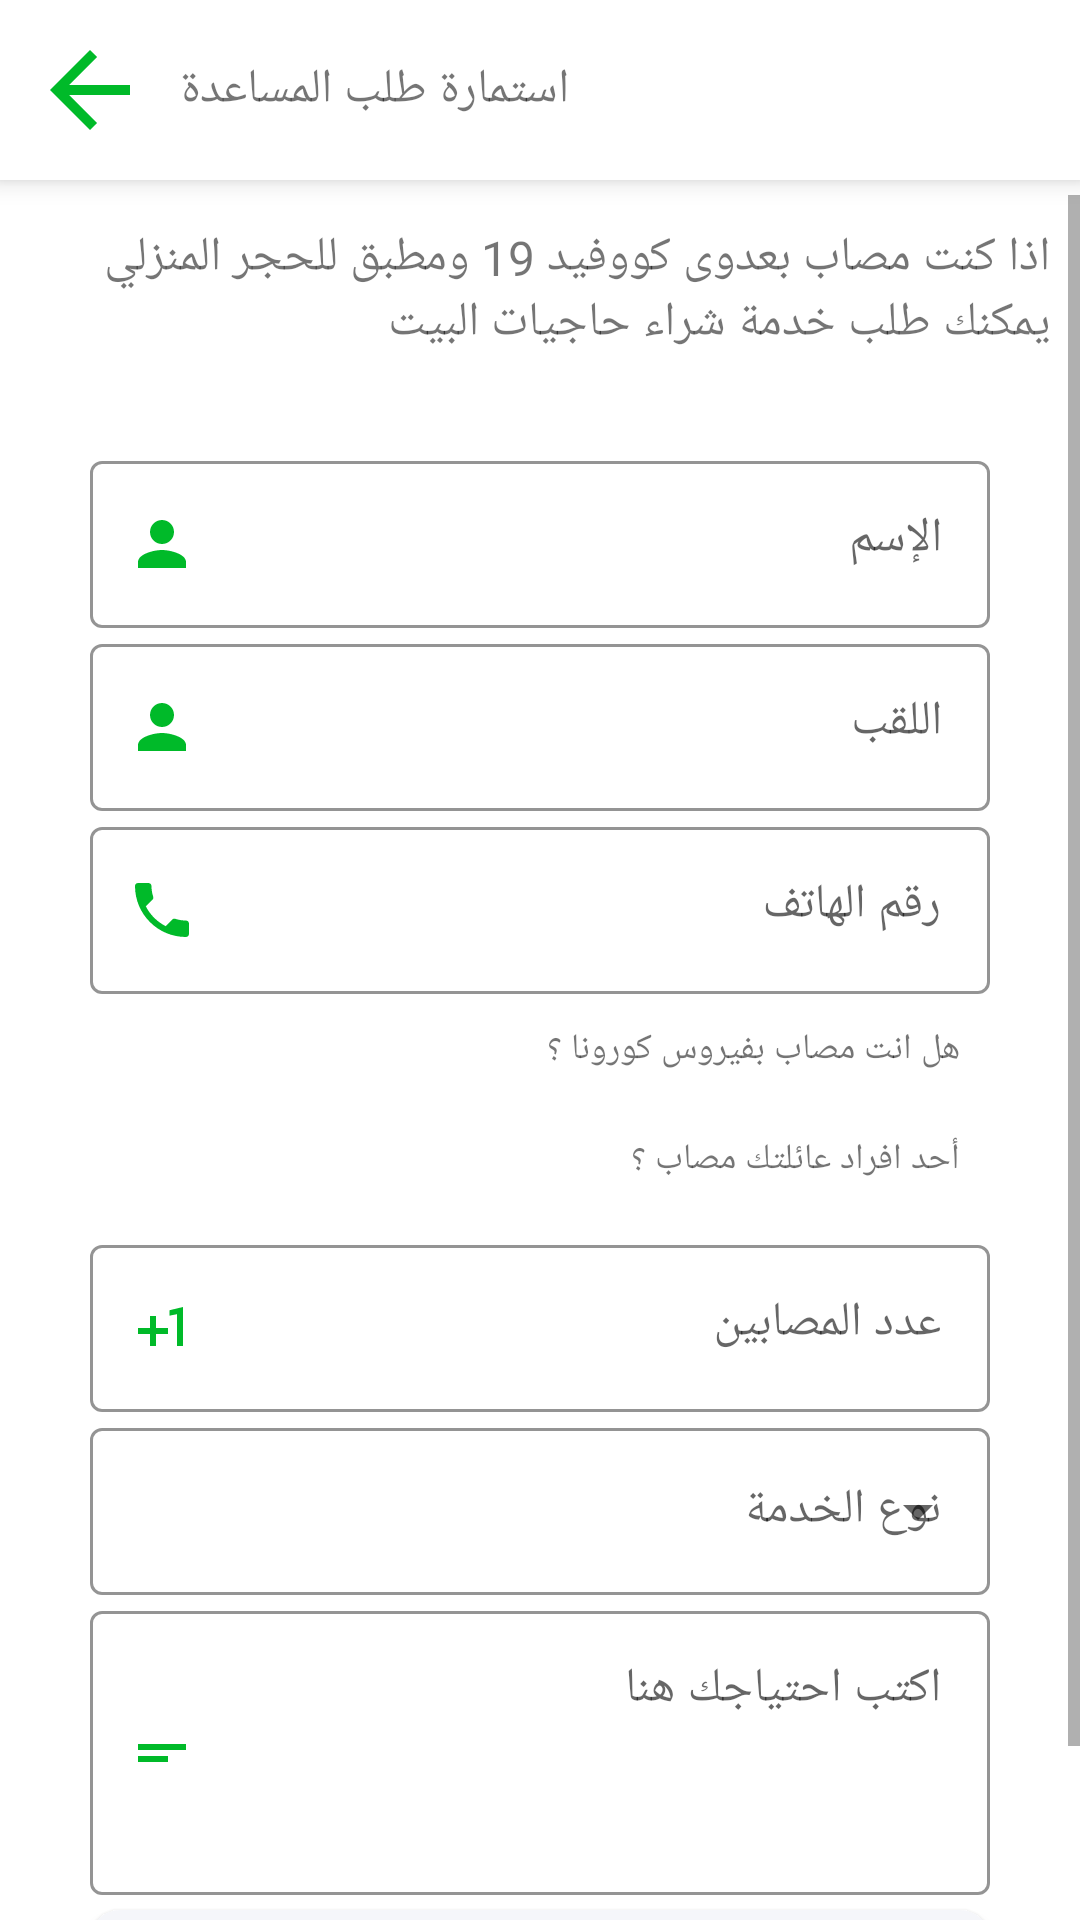

Icons on this 1080x1920 Android screen, each with its box as rect(x1, y1, x2, y2):
arrow back: rect(50, 50, 130, 130)
